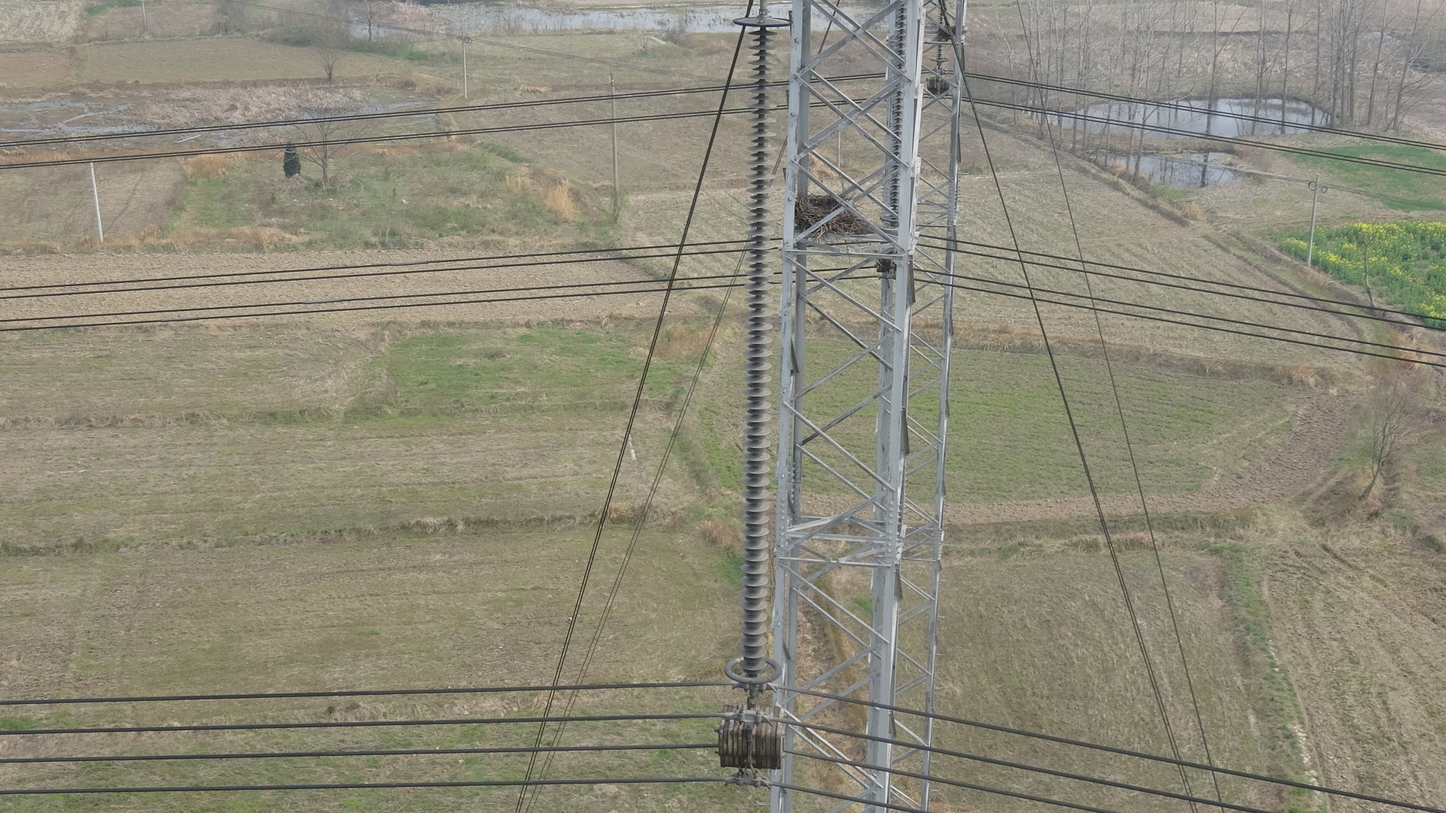insulator: (734, 26, 782, 676), (886, 2, 909, 216)
